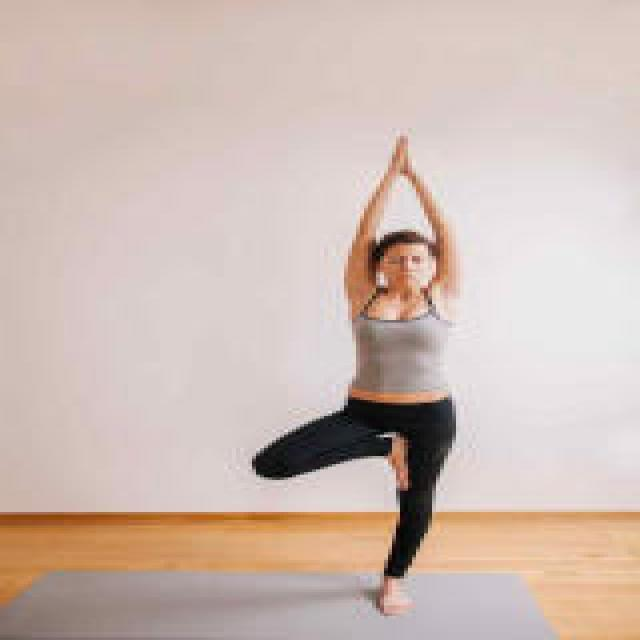yoga-pose tree: (245, 137, 479, 612)
